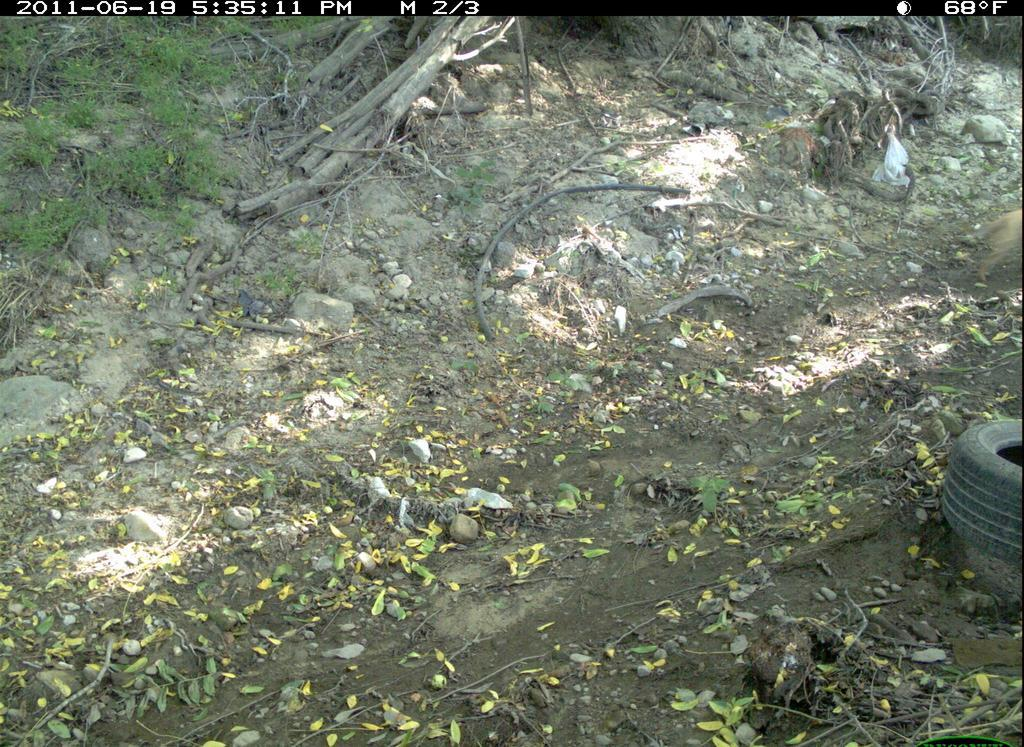dog: (963, 199, 1022, 295)
